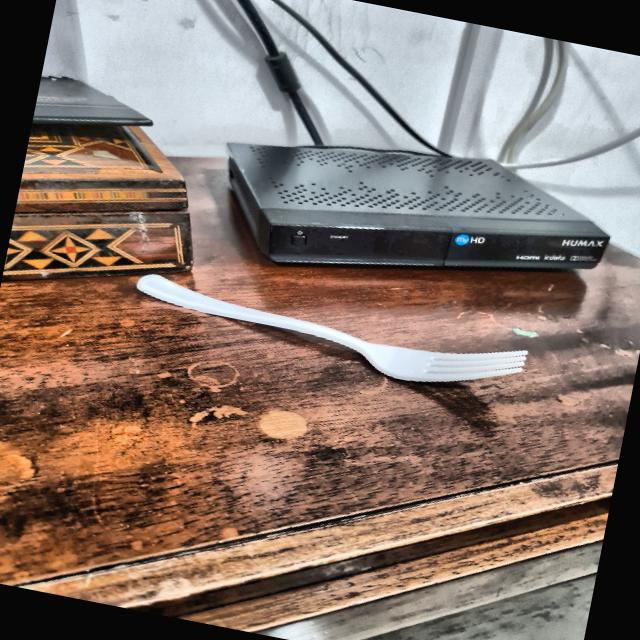plastic utensil: (120, 270, 539, 408)
